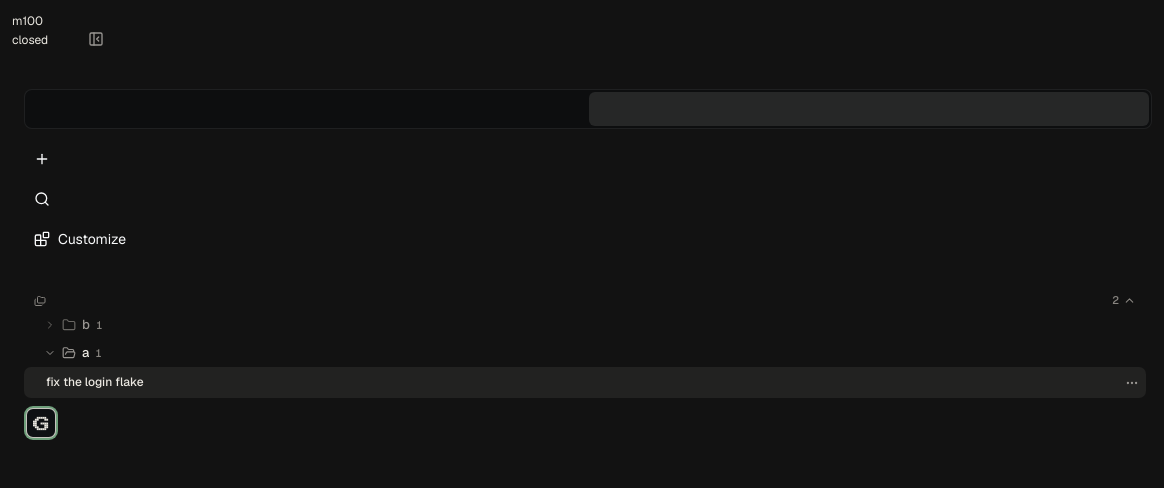
Test: Sidebar conversations list › does not render the redundant history search field
Expected: the button "fix the login flake" is shown, [30,369,1119,396]
Click the button "b 1" at (50, 325), box [24,311,1146,339]
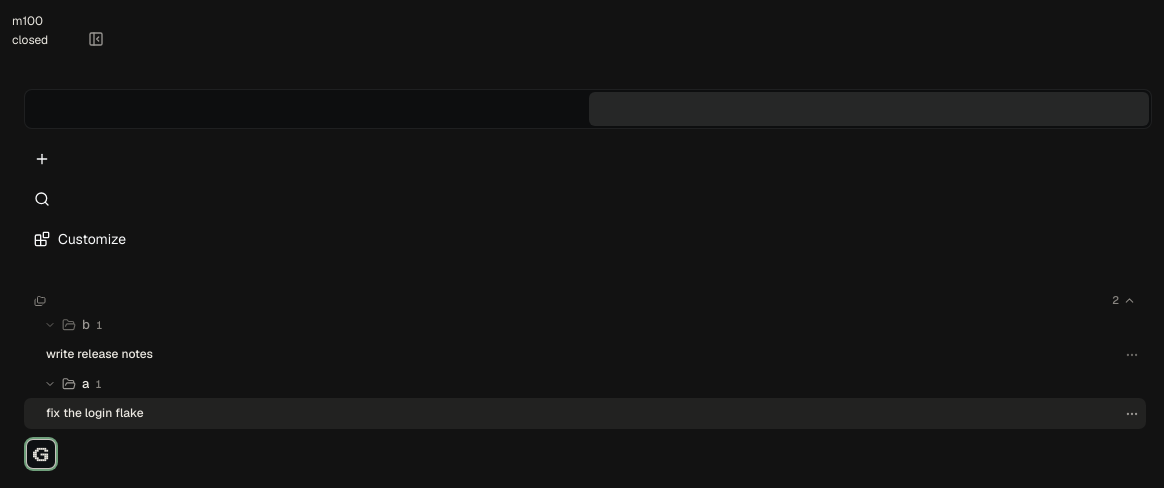
Expected: the button "write release notes" is shown, [30,341,1119,368]
